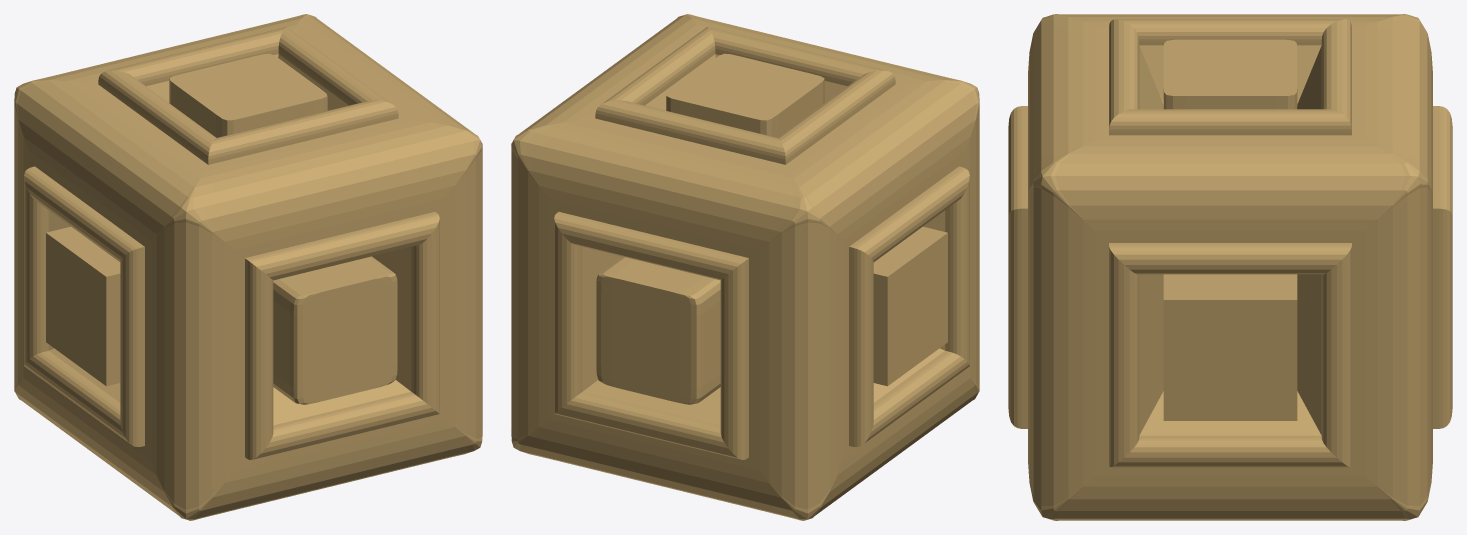
Rendered from Mcube.fbx.
The picture shows the model from 3 angles, left to right: view 1: azimuth 30°, elevation 25°; view 2: azimuth 150°, elevation 25°; view 3: azimuth 270°, elevation 25°; orthographic projection. The views are drawn at different scales.
Parts seen in each view (by area): view 1: Cube; view 2: Cube; view 3: Cube.
Boxes of the visible parts, left/top/right/bottom form: Cube: left=14, top=14, right=482, bottom=520; Cube: left=511, top=14, right=979, bottom=520; Cube: left=1008, top=14, right=1452, bottom=520.
Bounding box in the file's own units: 219 × 219 × 219.
